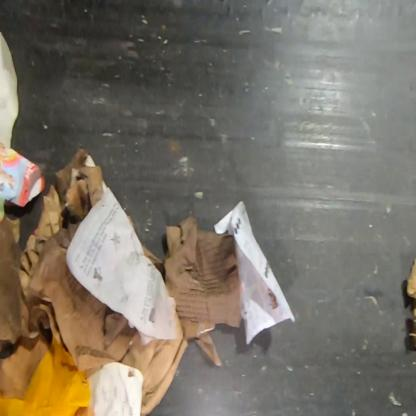cardboard: (163, 213, 243, 340), (119, 311, 190, 415), (0, 29, 20, 150), (406, 255, 415, 351)
